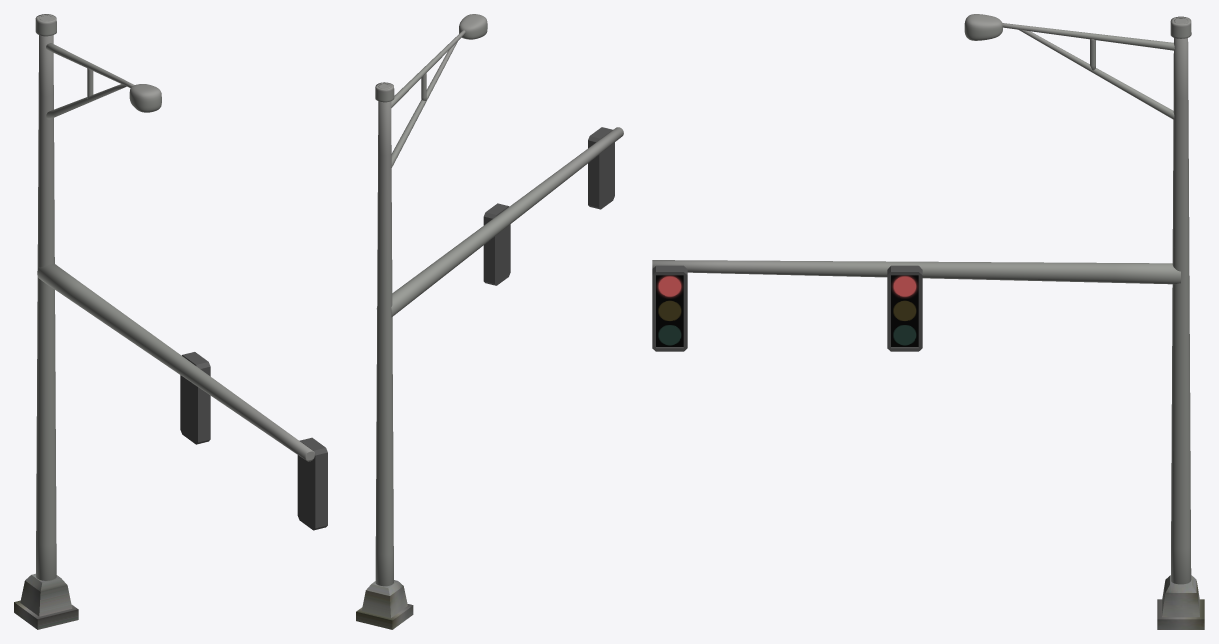
The model's file is stoplightLarge.fbx.
The picture shows the model from 3 angles, left to right: view 1: azimuth 30°, elevation 25°; view 2: azimuth 150°, elevation 25°; view 3: azimuth 270°, elevation 25°; orthographic projection. The views are drawn at different scales.
Visible parts, largest first — view 1: base.002, base.003, base.001, stopLight.002, stopLight.001, base.008, base.006, base.005; view 2: base.002, base.003, base.001, stopLight.002, stopLight.001, base.005, base.008, base.006; view 3: base.002, base.003, stopLight.002, stopLight.001, base.001, base.006, base.005, base.008.
Boxes of the visible parts, x1,y1,x2,y2 form: base.002: (36, 15, 56, 580); base.003: (37, 264, 315, 461); base.001: (14, 573, 78, 629); stopLight.002: (297, 437, 327, 530); stopLight.001: (180, 352, 210, 444); base.008: (129, 84, 161, 112); base.006: (46, 43, 134, 87); base.005: (46, 84, 126, 119); base.002: (375, 83, 393, 586); base.003: (376, 127, 623, 317); base.001: (356, 580, 413, 629); stopLight.002: (588, 127, 614, 209); stopLight.001: (483, 203, 510, 285); base.005: (391, 41, 457, 167); base.008: (459, 14, 487, 39); base.006: (391, 30, 465, 107); base.002: (1171, 18, 1191, 584); base.003: (652, 260, 1180, 284); stopLight.002: (652, 265, 687, 351); stopLight.001: (887, 265, 922, 351); base.001: (1157, 575, 1204, 629); base.006: (1002, 23, 1174, 50); base.005: (1018, 29, 1174, 119); base.008: (964, 14, 1002, 40).
Size of the model in its own units: 161 by 2264 by 1881.
3 materials, 3 textured.
